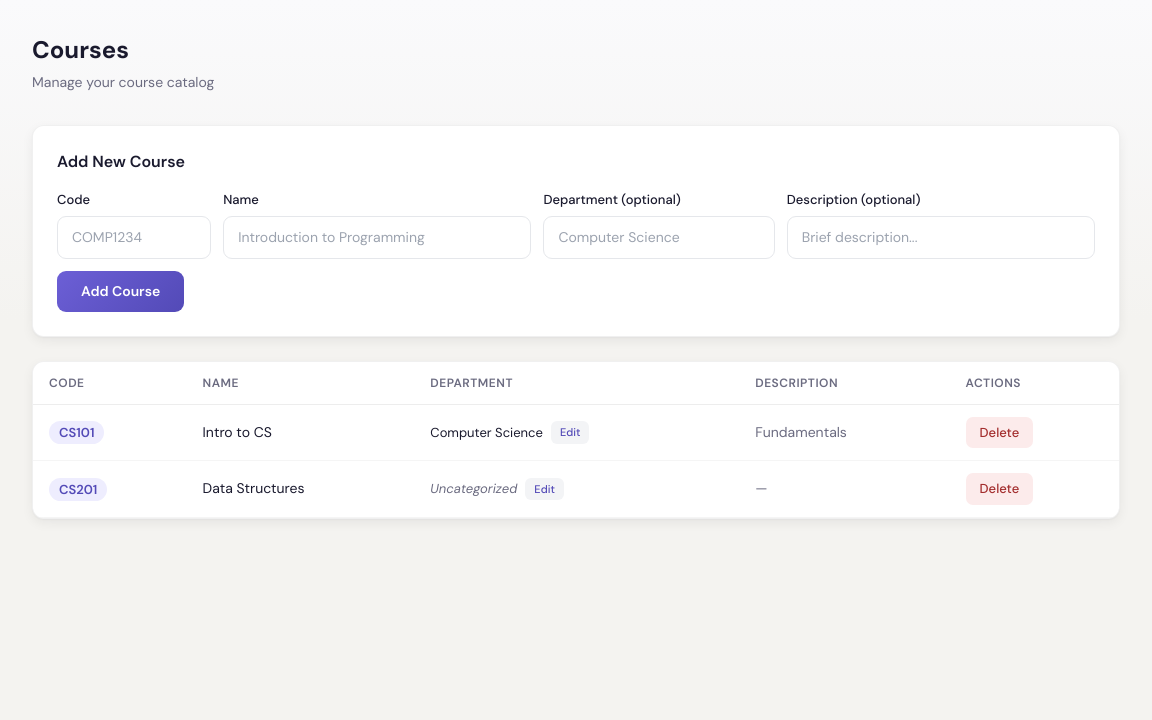
Test: AdminCourses › deletes a course
The width and height of the screenshot is (1152, 720).
Expected: the text "CS201" is shown, left=49, top=478, right=107, bottom=501
Click the button "Delete" in the row of "CS201": (999, 489) left=966, top=473, right=1033, bottom=504
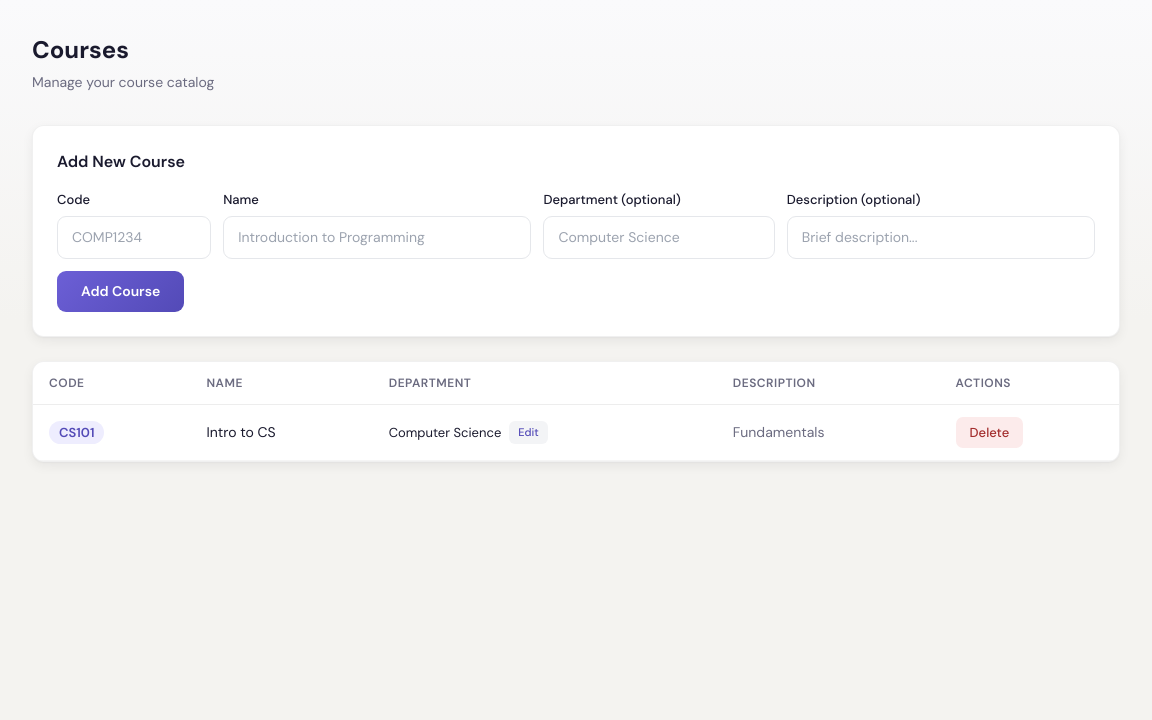
Now the text "Data Structures" is gone
